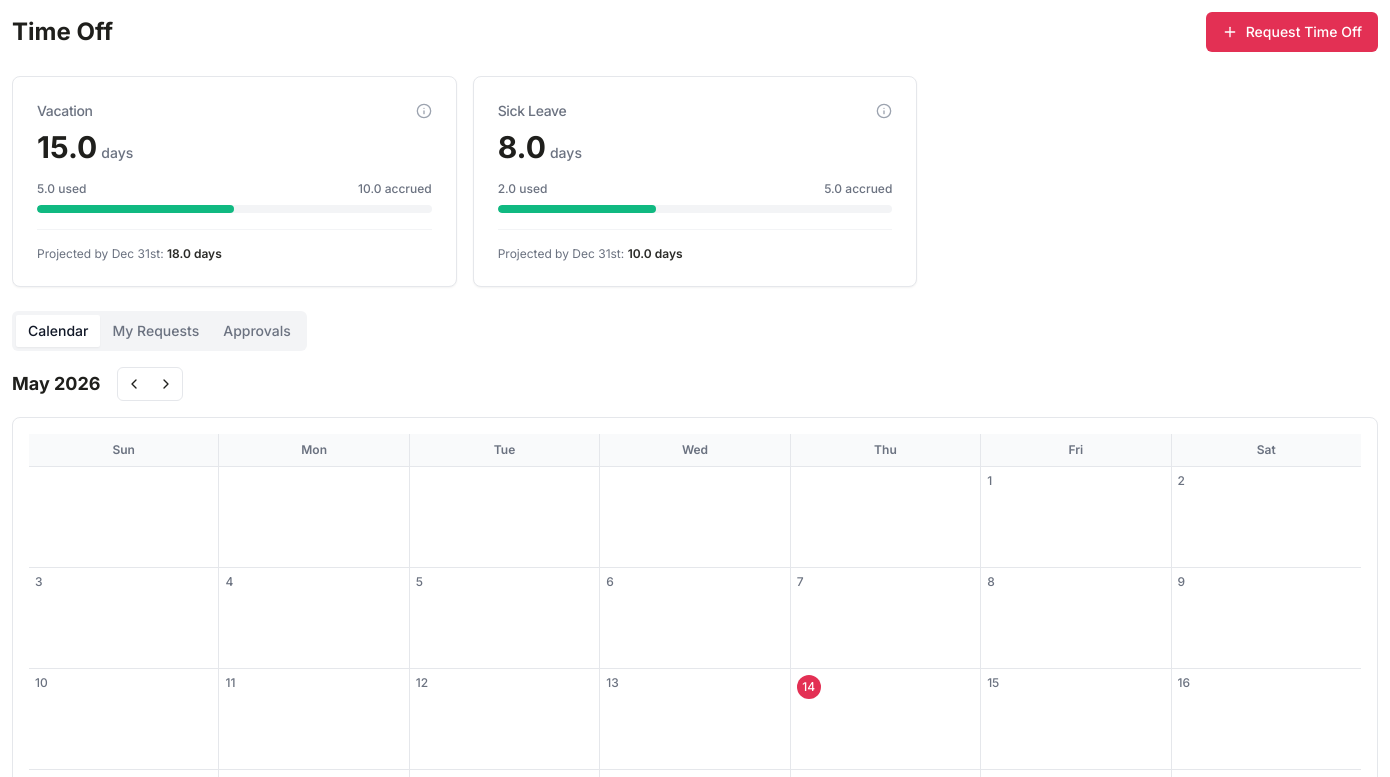
Scenario: TimeOffPage › shows request list with status badges
The image size is (1390, 777).
Note: Navigate to My Requests tab to see the status badges
Step 1. Click the tab "My Requests" → {"x": 156, "y": 331}, box [100,315,211,347]
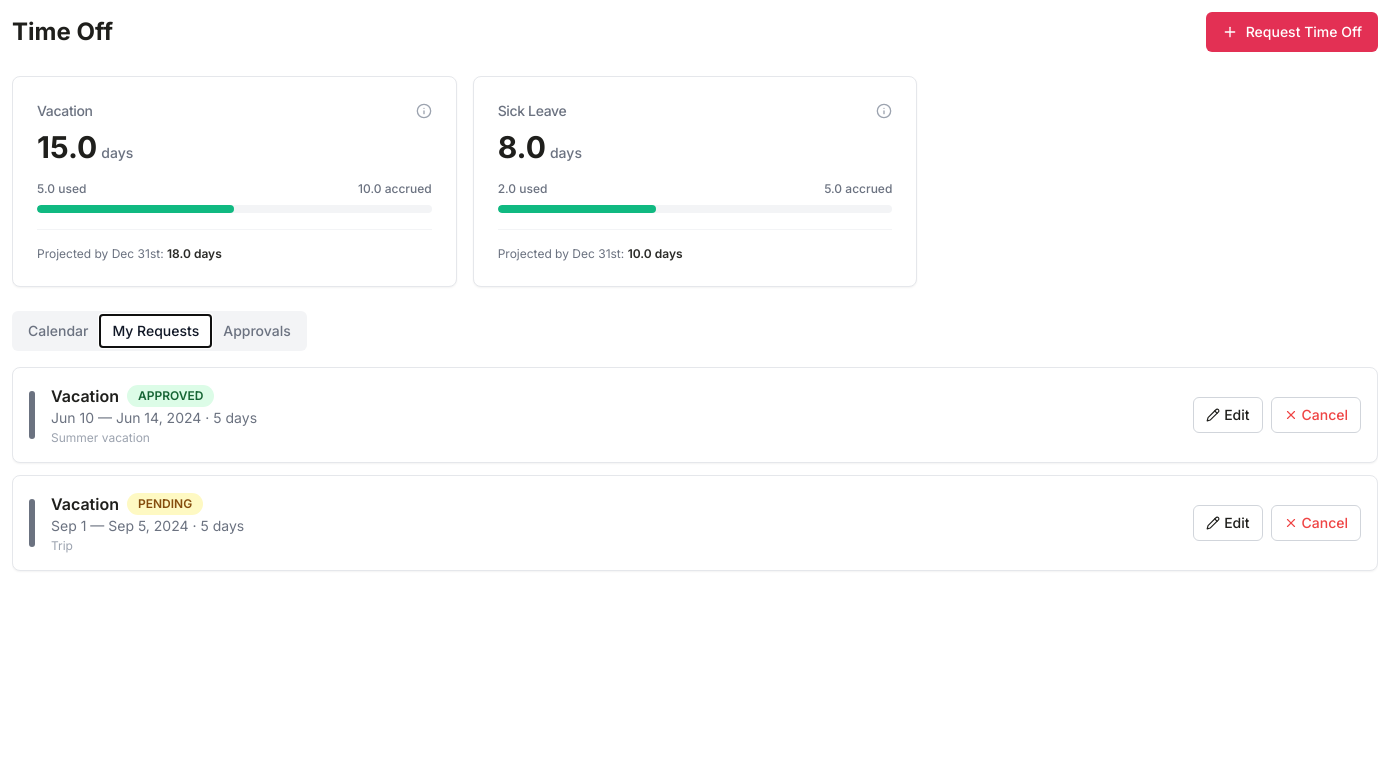
Expected: the text "PENDING" is shown, [127,493,203,515]
Expected: the text "APPROVED" is shown, [127,385,214,407]
